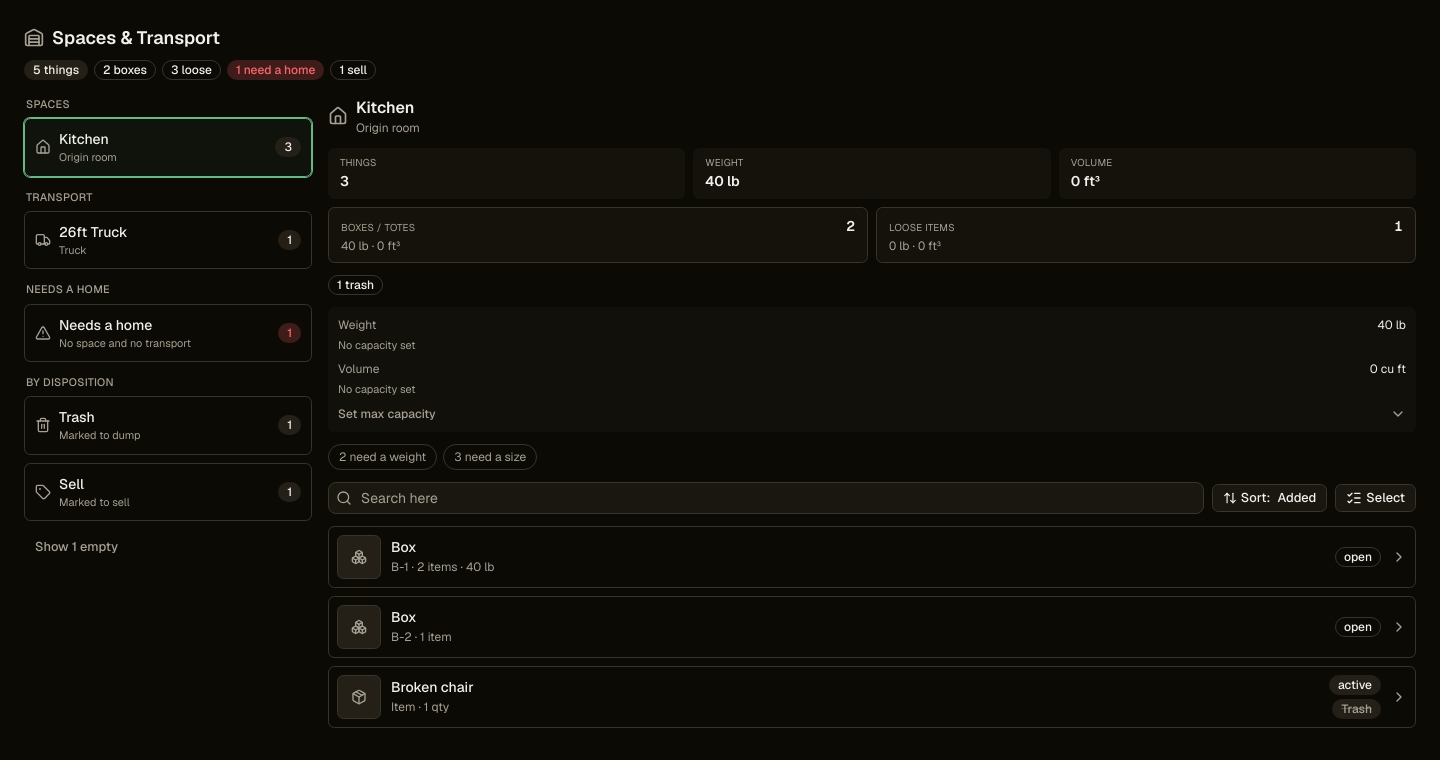
Test: SpacesTransportPageContent (mobile-first) › shows the clean ConvexError reason when saving capacity fails
Click the button "Set max capacity". click: (387, 414)
box: [338,406,1406,422]
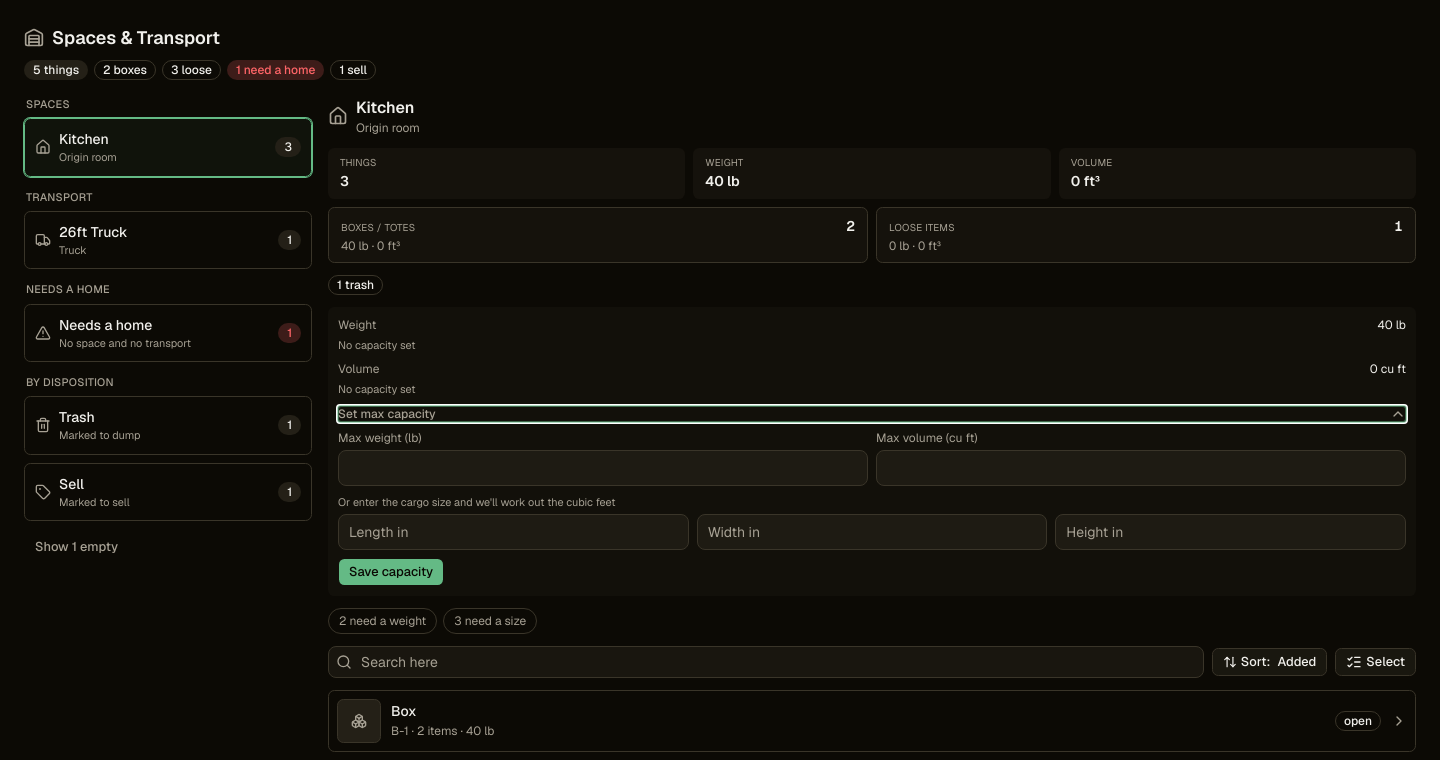
Click the button "Save capacity". click: (391, 572)
box: [338,558,444,586]
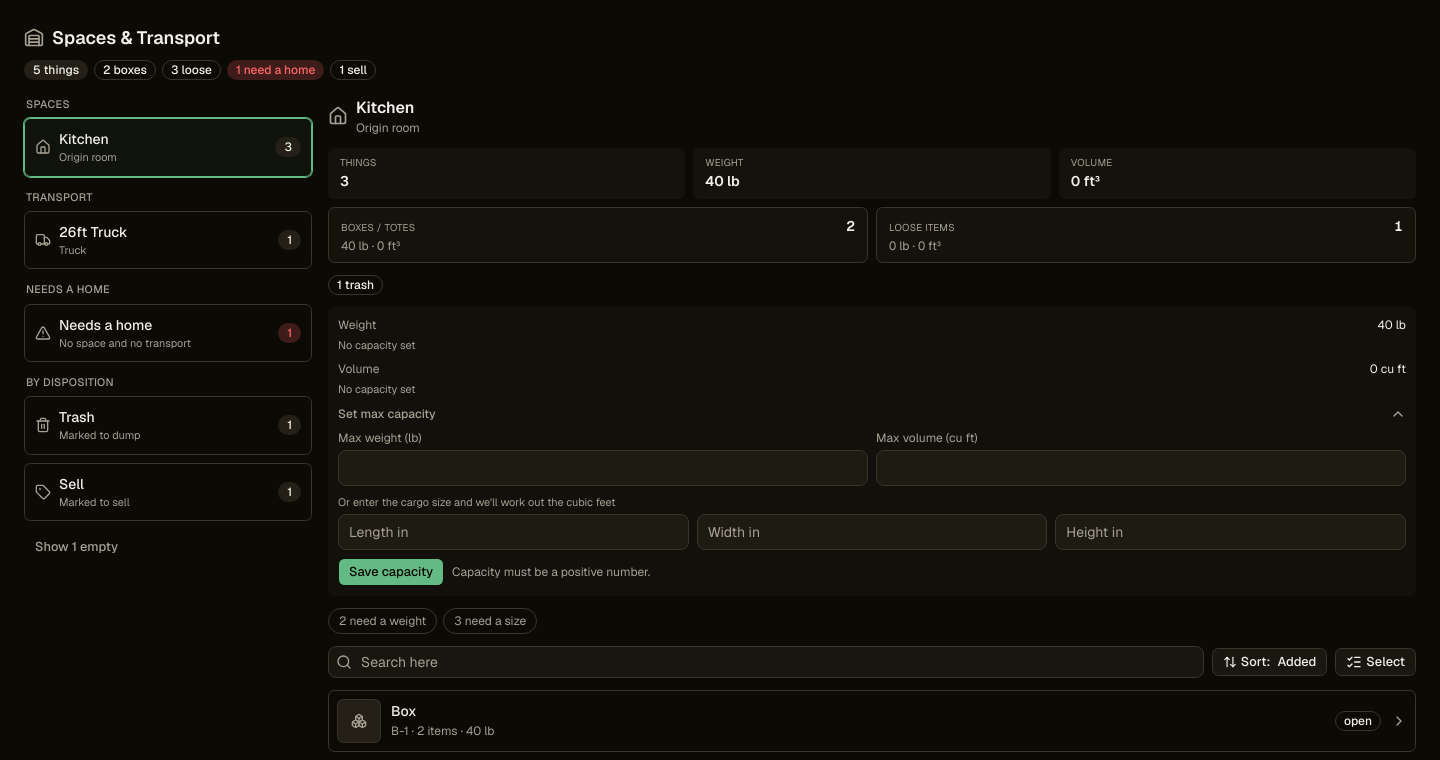
Result: the text "Capacity must be a positive number." is shown at [452,564,650,580]
